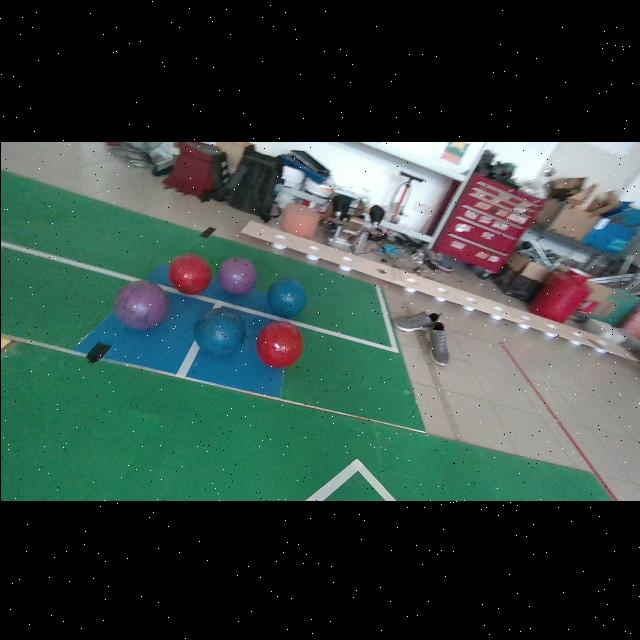B: (193, 306, 244, 354), (266, 277, 306, 316)
P: (114, 278, 167, 327), (218, 255, 255, 293)
R: (256, 319, 303, 366), (168, 251, 211, 293)
